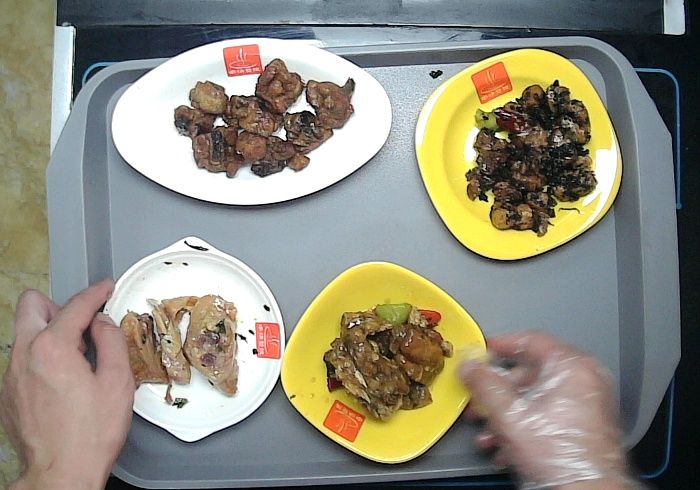SHKJ-Bao_Yu_Pan: (88, 230, 292, 447)
SHKJ-Huang_Se_Cai_Die: (275, 257, 493, 470)
SHKJ-Huang_Se_Si_Fang_Cai_Die: (409, 46, 630, 264)
SHKJ-Yu_Pan: (105, 33, 398, 210)
